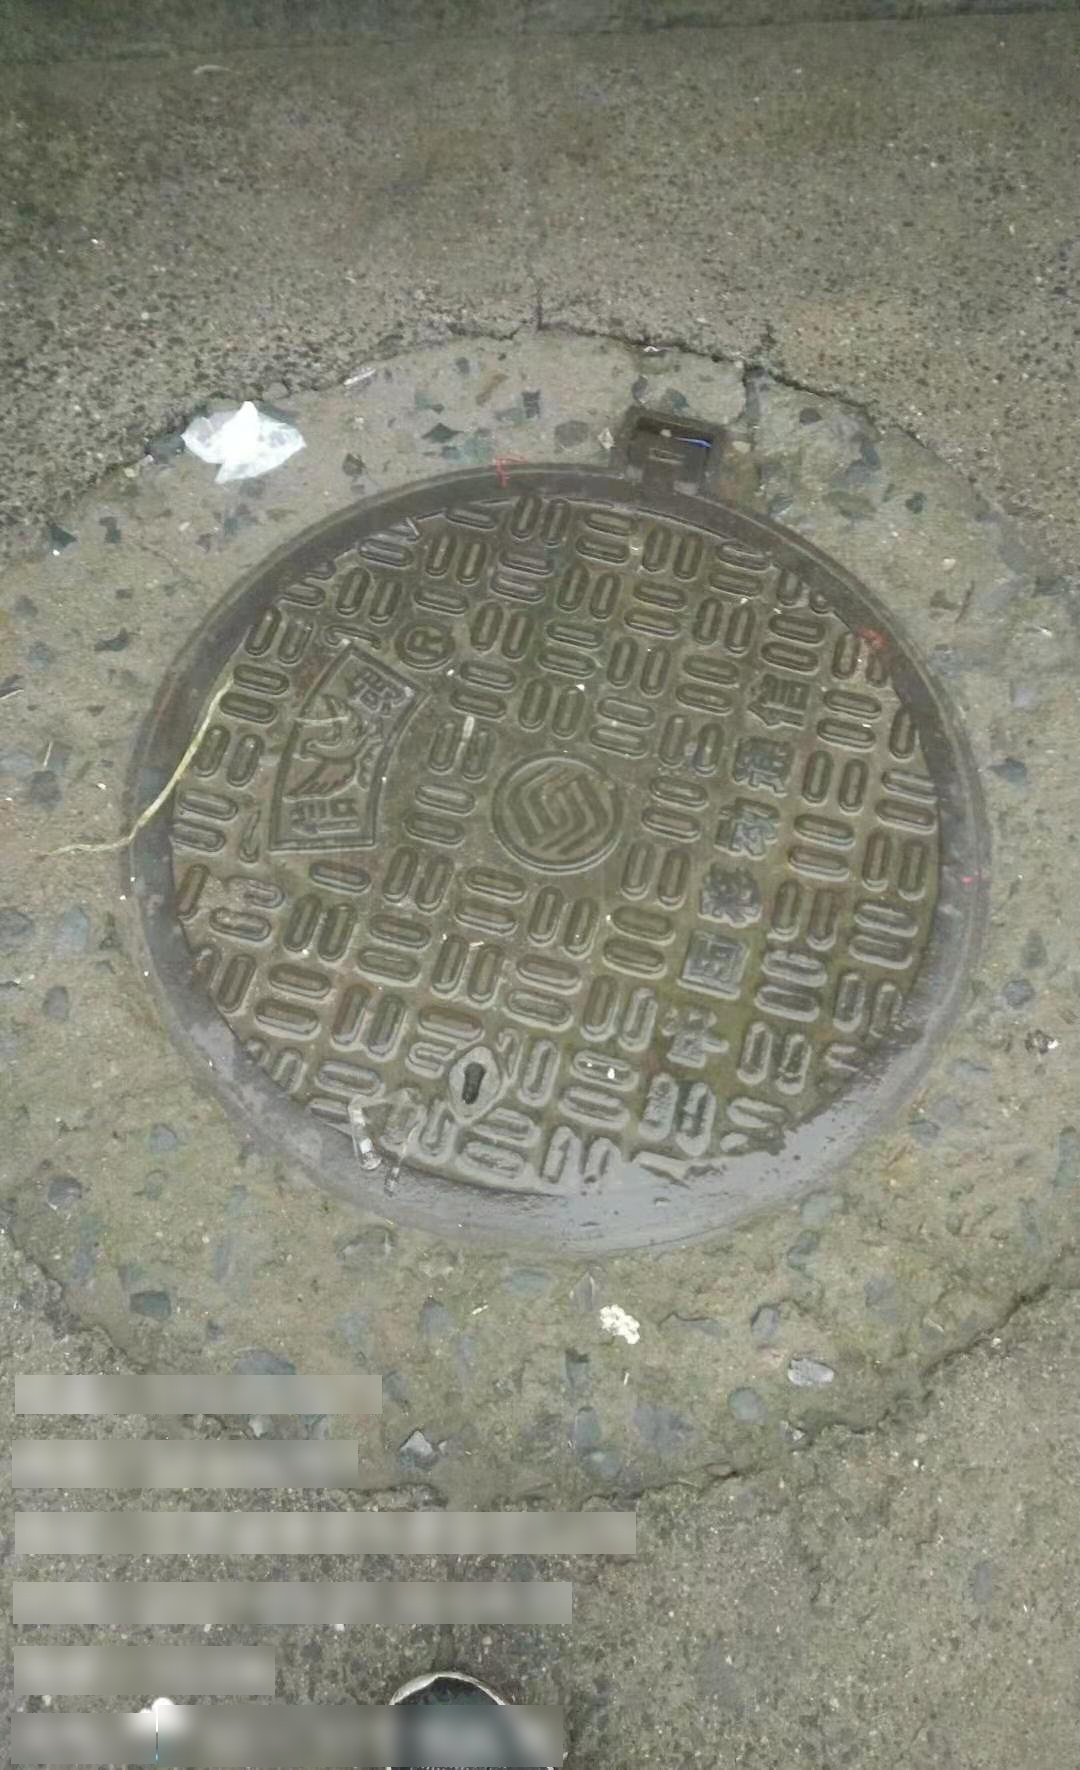good: (129, 403, 997, 1266)
